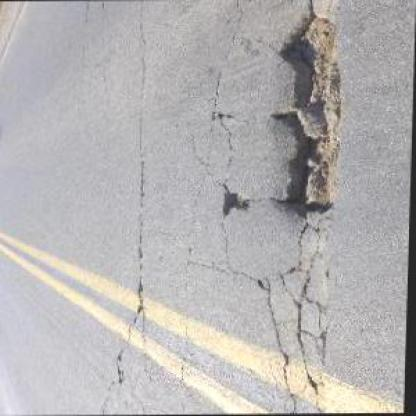pothole: (265, 8, 345, 224), (219, 188, 252, 216)
